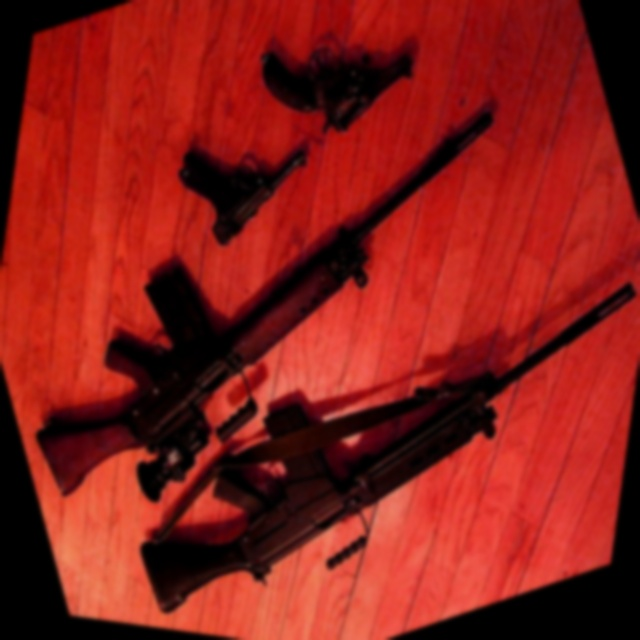gun: (0, 33, 615, 584), (79, 192, 640, 640)
